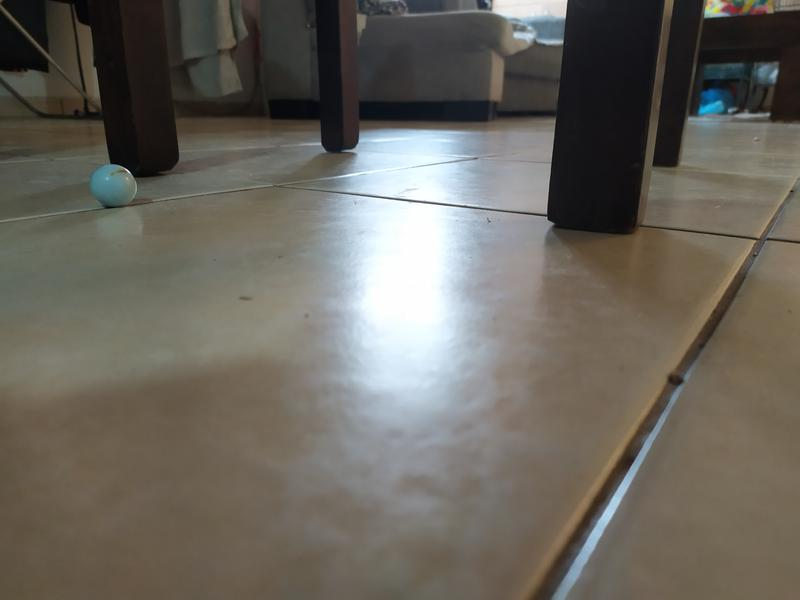Warning: (86, 162, 140, 210)
